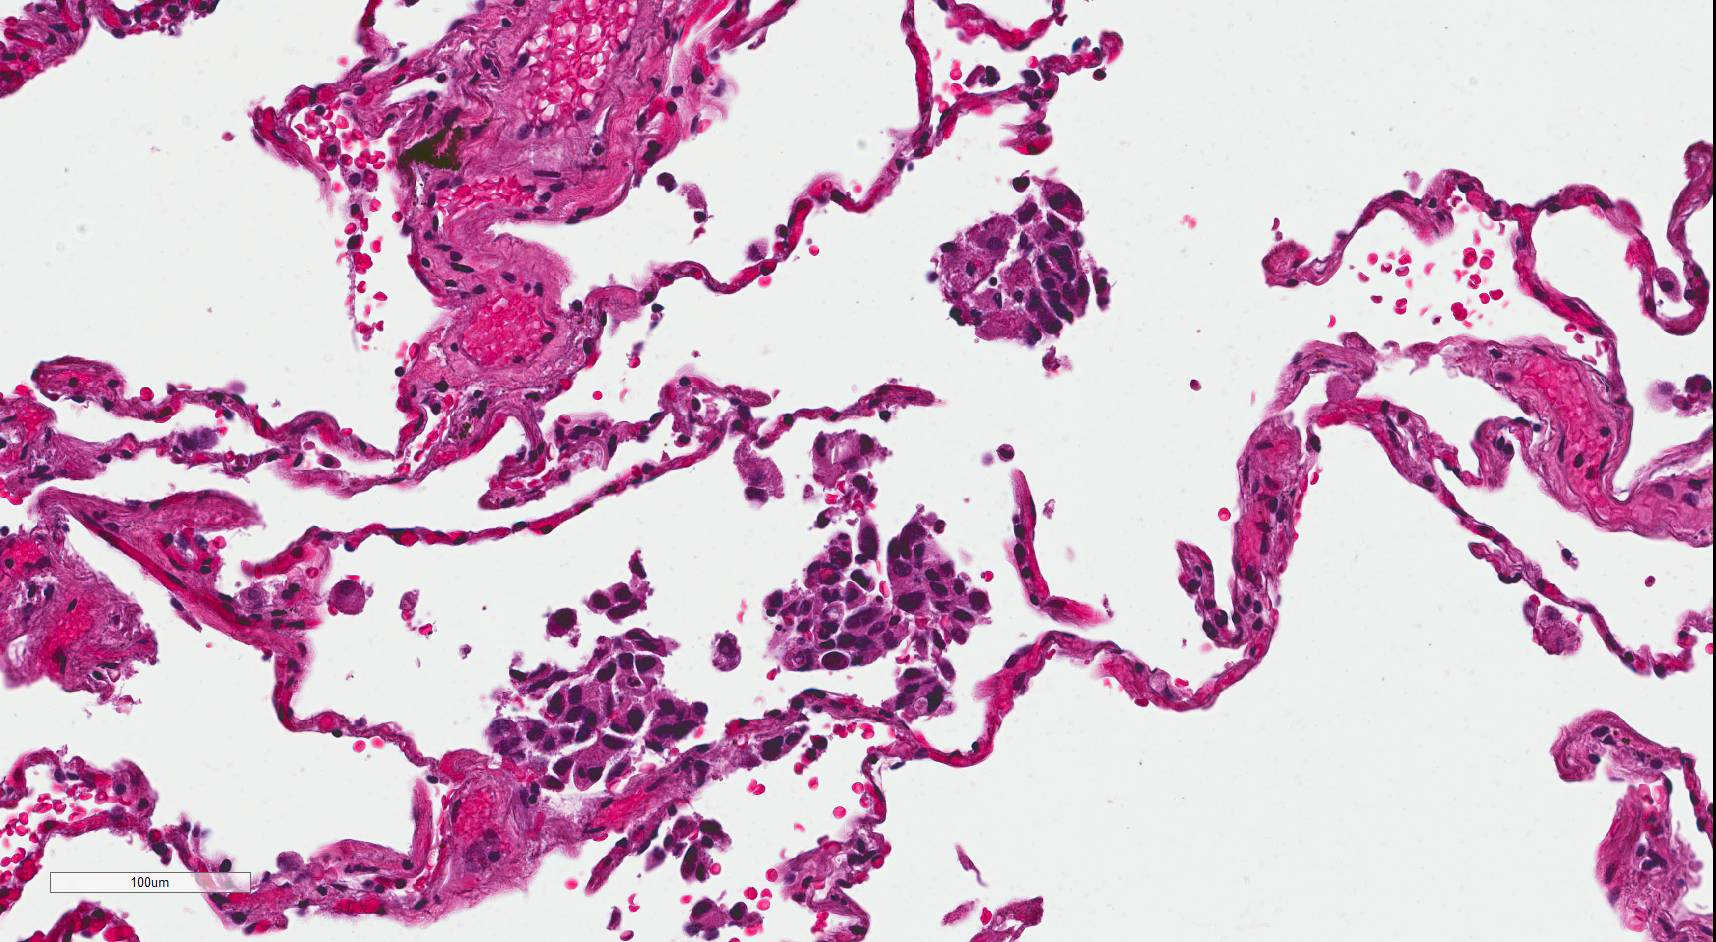stas: (763, 520, 996, 726), (489, 632, 706, 787), (939, 172, 1121, 348), (641, 813, 738, 884), (580, 554, 653, 622), (678, 889, 756, 940), (708, 628, 746, 673), (540, 606, 578, 638)
